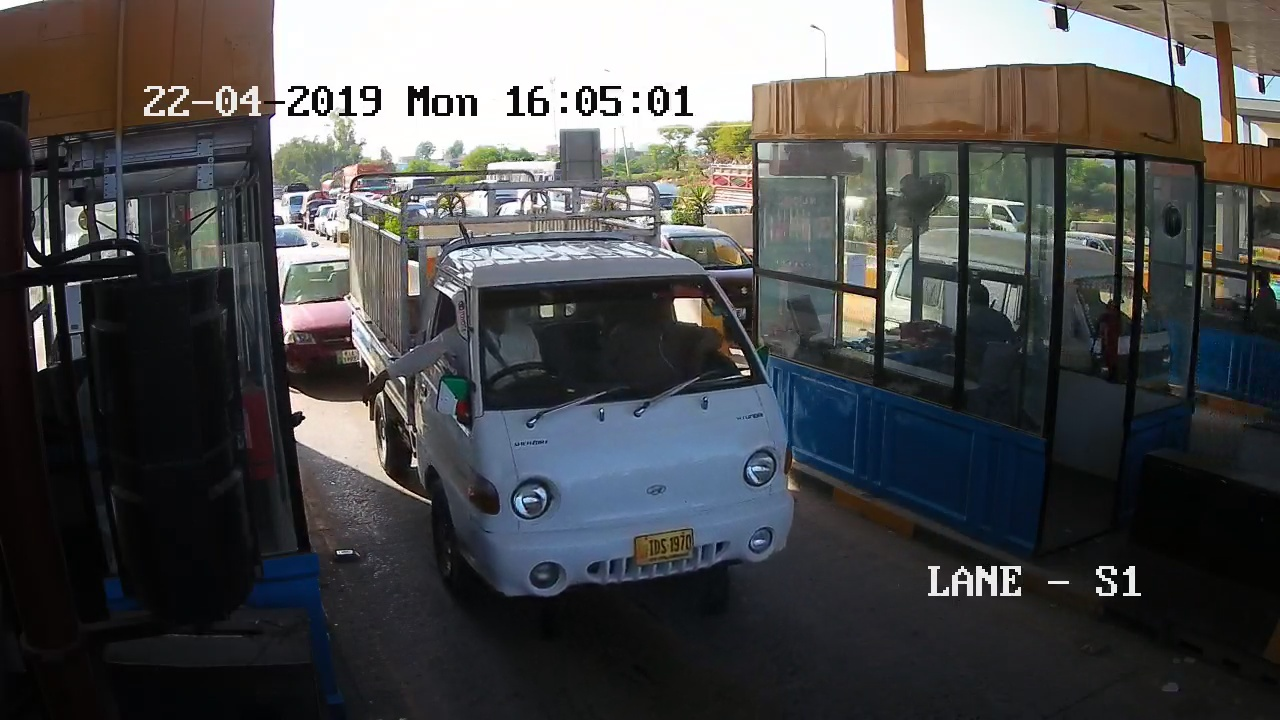Number Plate (Car): (631, 529, 697, 559), (337, 348, 359, 363)
